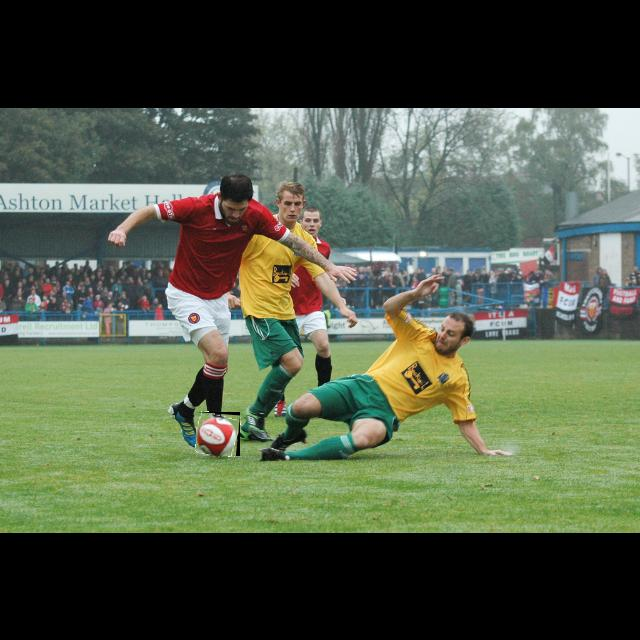Football: (196, 412, 240, 456)
